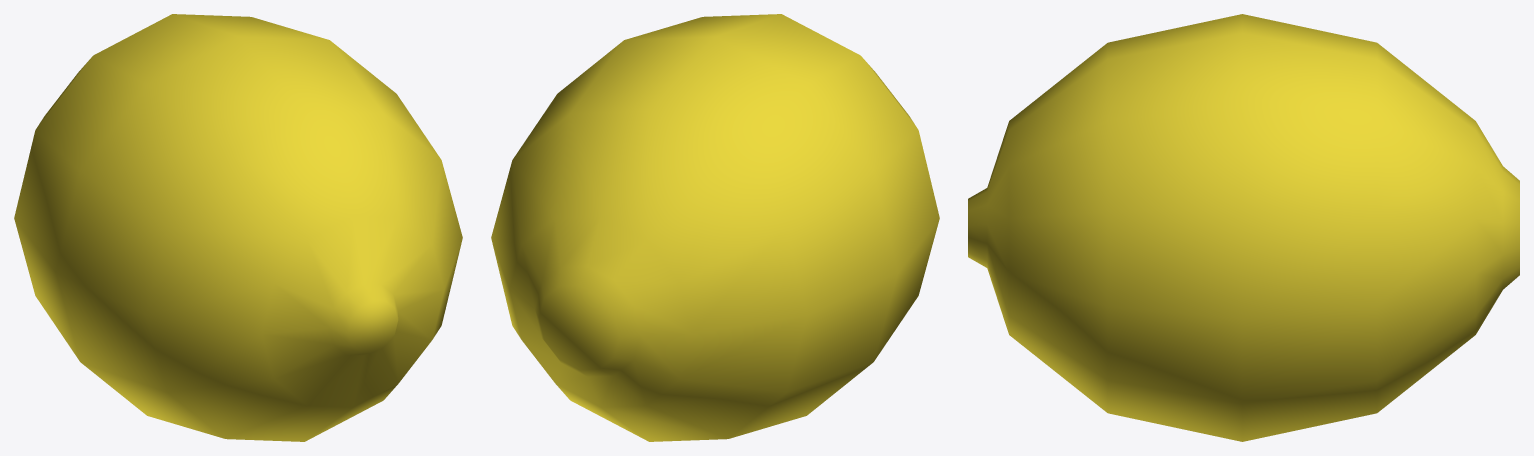
The model's file is Item_Lemon.glb.
3 renders of one model, left to right at view 1: azimuth 30°, elevation 25°; view 2: azimuth 150°, elevation 25°; view 3: azimuth 270°, elevation 25°, orthographic.
Visible parts, largest first — view 1: Item_Lemon; view 2: Item_Lemon; view 3: Item_Lemon.
Boxes of the visible parts, bbox=[...] form: Item_Lemon: bbox=[14, 14, 462, 441]; Item_Lemon: bbox=[491, 14, 939, 441]; Item_Lemon: bbox=[968, 14, 1519, 441].
Bounding box in the file's own units: 0.2651 × 0.2651 × 0.3406.
